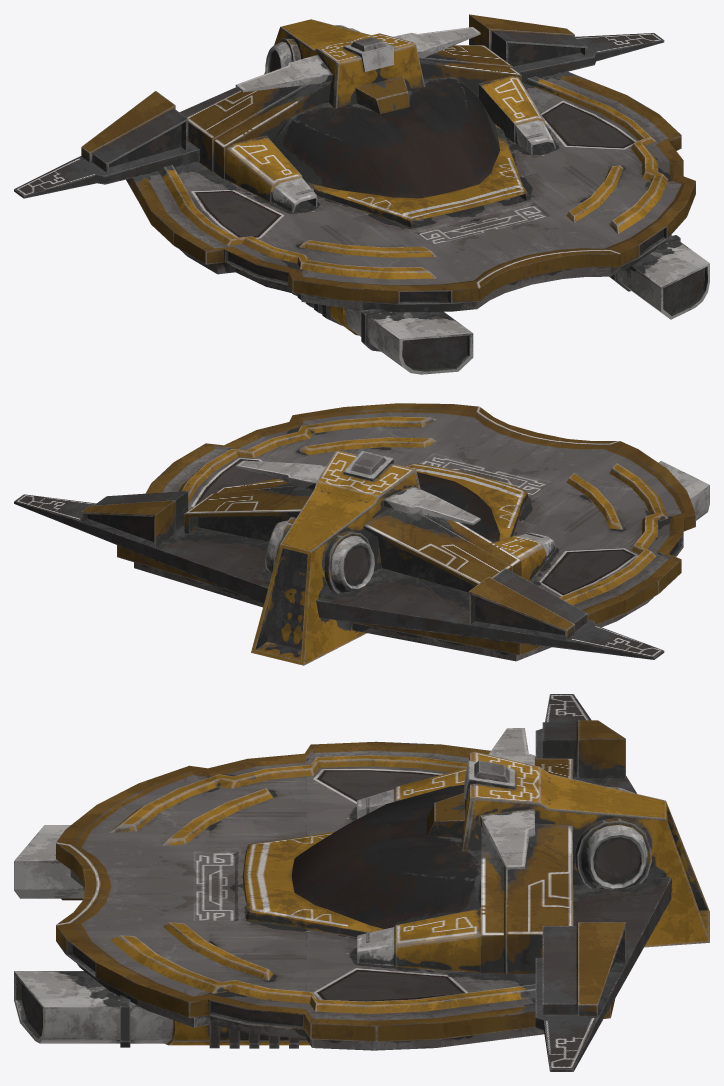
Rendered from Pancake.glb.
3 renders of one model, top to bottom at view 1: azimuth 30°, elevation 25°; view 2: azimuth 150°, elevation 25°; view 3: azimuth 270°, elevation 25°, orthographic. The views are drawn at different scales.
Visible parts, largest first — view 1: Pancake; view 2: Pancake; view 3: Pancake.
Part boxes in pixels (<box>): Pancake: <box>14,14,709,374</box>; Pancake: <box>14,403,709,665</box>; Pancake: <box>14,694,709,1071</box>.
Size of the model in its own units: 10.5 by 2.6 by 8.23.
1 material, 1 textured.
